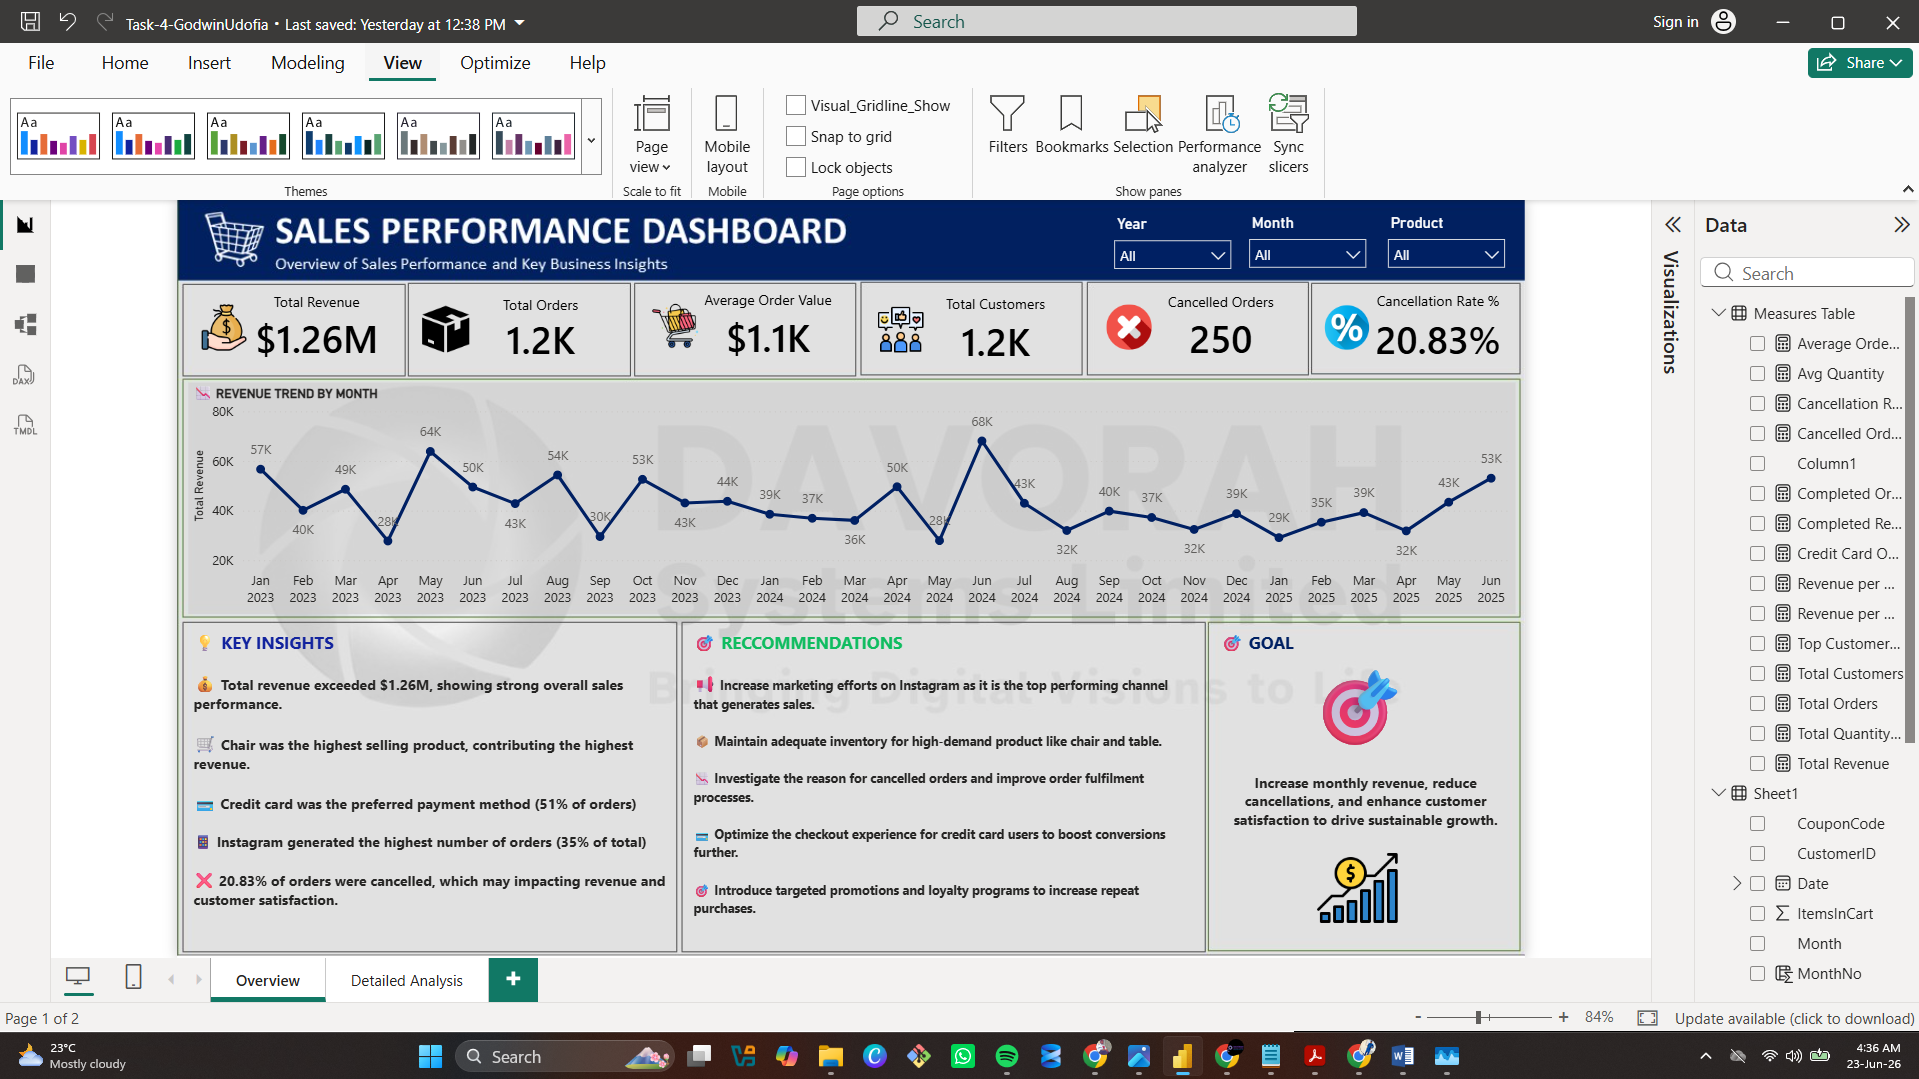

The dashboard page shown, as its layout file describes it:
{"tool":"powerbi","page":{"name":"Overview","canvas":[1280,720],"ordinal":0},"visuals":[{"type":"cardVisual","title":"Total Revenue","fields":{"Data":["Measures Table.Total Revenue"]},"box":[10.7,80.7,200.7,80.7],"z":0},{"type":"cardVisual","title":"Total Revenue","fields":{"Data":["Measures Table.Total Orders"]},"box":[220.8,84.3,204.2,77.2],"z":1000},{"type":"cardVisual","title":"Total Revenue","fields":{"Data":["Measures Table.Cancellation Rate %"]},"box":[1081.7,84.3,190,73.6],"z":2000},{"type":"cardVisual","title":"Total Revenue","fields":{"Data":["Measures Table.Cancelled Orders"]},"box":[866.8,80.7,206.6,80.7],"z":3000},{"type":"cardVisual","title":"Total Revenue","fields":{"Data":["Measures Table.Total Customers"]},"box":[653,83.1,204.2,80.7],"z":4000},{"type":"cardVisual","title":"Total Revenue","fields":{"Data":["Measures Table.Average Order Value"]},"box":[439.3,80.7,200.7,77.2],"z":5000},{"type":"lineChart","title":"📉 REVENUE TREND BY MONTH","fields":{"Category":["Sheet1.MonthYear"],"Y":["Measures Table.Total Revenue"]},"box":[10.9,172.9,1260.9,220],"z":6000},{"type":"textbox","box":[10.7,403.7,463.1,290.9],"z":7000},{"type":"textbox","box":[485.6,403.7,484.4,307.5],"z":8000},{"type":"textbox","box":[986.7,403.7,285,307.5],"z":9000},{"type":"image","box":[1011.6,612.7,219.7,81.9],"z":10000},{"type":"slicer","fields":{"Values":["Sheet1.Product"]},"box":[1139.9,8.3,131.8,60.6],"z":11000},{"type":"slicer","fields":{"Values":["Sheet1.Month"]},"box":[1008.1,8.3,131.8,60.6],"z":12000},{"type":"slicer","fields":{"Values":["Sheet1.Year"]},"box":[879.8,9.5,131.8,60.6],"z":13000}]}

Visuals, with their boxes on the page's 1280x720 design canvas (x1, y1, x2, y2). These are canvas units, not pixel positions in the 1919x1079 screenshot, which may show the page scaled, cropped or inside an application window:
"Total Revenue" cardVisual: BBox(11, 81, 211, 161)
"Total Revenue" cardVisual: BBox(221, 84, 425, 162)
"Total Revenue" cardVisual: BBox(1082, 84, 1272, 158)
"Total Revenue" cardVisual: BBox(867, 81, 1073, 161)
"Total Revenue" cardVisual: BBox(653, 83, 857, 164)
"Total Revenue" cardVisual: BBox(439, 81, 640, 158)
"📉 REVENUE TREND BY MONTH" lineChart: BBox(11, 173, 1272, 393)
textbox: BBox(11, 404, 474, 695)
textbox: BBox(486, 404, 970, 711)
textbox: BBox(987, 404, 1272, 711)
image: BBox(1012, 613, 1231, 695)
slicer - Sheet1.Product: BBox(1140, 8, 1272, 69)
slicer - Sheet1.Month: BBox(1008, 8, 1140, 69)
slicer - Sheet1.Year: BBox(880, 10, 1012, 70)
